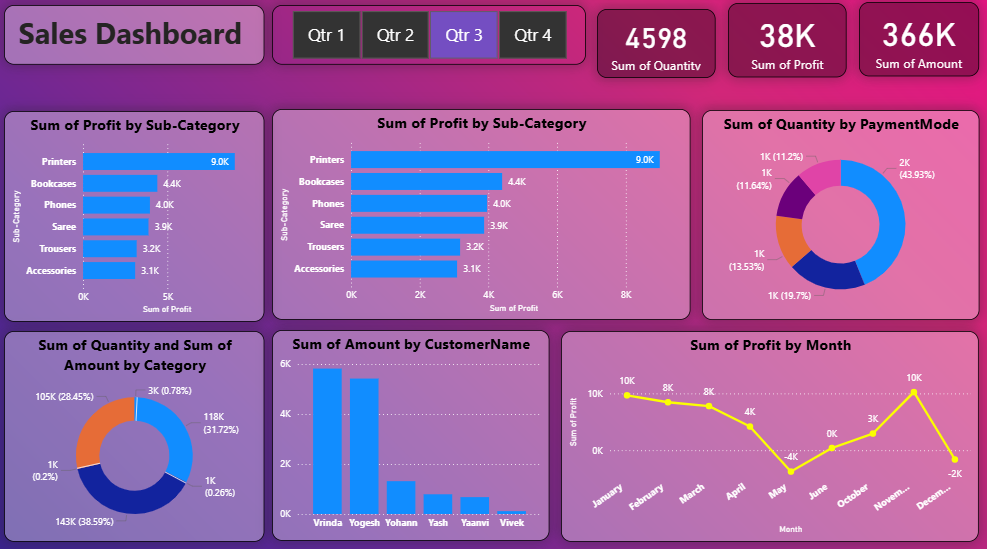

What the dashboard file says about the page in this screenshot:
{"tool":"powerbi","page":{"name":"Page 1","canvas":[1280,720],"ordinal":0},"visuals":[{"type":"textbox","box":[9.4,12.1,336.3,76.7],"z":0},{"type":"lineChart","fields":{"Category":["Orders.Order Date.Variation.Date Hierarchy.Month"],"Y":["Sum(Details.Profit)"]},"box":[727.7,431.8,539.4,271.7],"z":1000},{"type":"barChart","fields":{"Y":["Sum(Details.Profit)"],"Category":["Details.Sub-Category"]},"box":[354.5,146.1,539.9,272.4],"z":2000},{"type":"donutChart","fields":{"Y":["Sum(Details.Quantity)","Sum(Details.Amount)"],"Category":["Details.Category"]},"box":[9.4,431.8,336.3,271.7],"z":3000},{"type":"donutChart","fields":{"Y":["Sum(Details.Quantity)"],"Category":["Details.PaymentMode"]},"box":[909.1,147.7,357.7,270.8],"z":4000},{"type":"card","fields":{"Values":["Sum(Details.Amount)"]},"box":[1112.4,8.1,154.7,95.5],"z":5000},{"type":"card","fields":{"Values":["Sum(Details.Profit)"]},"box":[942.9,9.4,153.3,95.5],"z":6000},{"type":"card","fields":{"Values":["Sum(Details.Quantity)"]},"box":[774.6,16.4,152.6,88.6],"z":7000},{"type":"barChart","fields":{"Y":["Sum(Details.Profit)"],"Category":["Details.Sub-Category"]},"box":[9.4,148,336.3,271.7],"z":8000},{"type":"lineStackedColumnComboChart","fields":{"Category":["Orders.CustomerName"],"Y":["Sum(Details.Amount)"]},"box":[354.5,431.6,357.7,272.4],"z":9000},{"type":"slicer","fields":{"Values":["Orders.Order Date.Variation.Date Hierarchy.Quarter"]},"box":[355.1,12.1,404.9,76.7],"z":10000}]}

Visuals, with their boxes in screenshot pixels (x1, y1, x2, y2), scaled from the page's 1280x720 canvas onto the 987x549 screenshot:
textbox: bbox(7, 9, 267, 68)
lineChart - Orders.Order Date.Variation.Date Hierarchy.Month x Sum(Details.Profit): bbox(561, 329, 977, 536)
barChart - Sum(Details.Profit) x Details.Sub-Category: bbox(273, 111, 690, 319)
donutChart - Sum(Details.Quantity) x Sum(Details.Amount): bbox(7, 329, 267, 536)
donutChart - Sum(Details.Quantity) x Details.PaymentMode: bbox(701, 113, 977, 319)
card - Sum(Details.Amount): bbox(858, 6, 977, 79)
card - Sum(Details.Profit): bbox(727, 7, 845, 80)
card - Sum(Details.Quantity): bbox(597, 13, 715, 80)
barChart - Sum(Details.Profit) x Details.Sub-Category: bbox(7, 113, 267, 320)
lineStackedColumnComboChart - Orders.CustomerName x Sum(Details.Amount): bbox(273, 329, 549, 537)
slicer - Orders.Order Date.Variation.Date Hierarchy.Quarter: bbox(274, 9, 586, 68)
